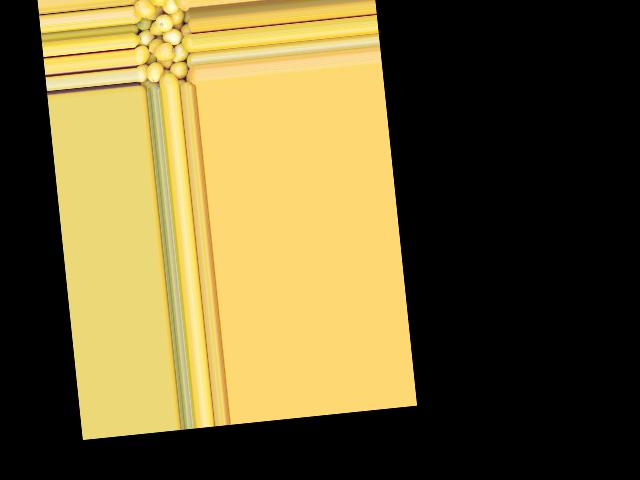lemon: (134, 43, 151, 65)
